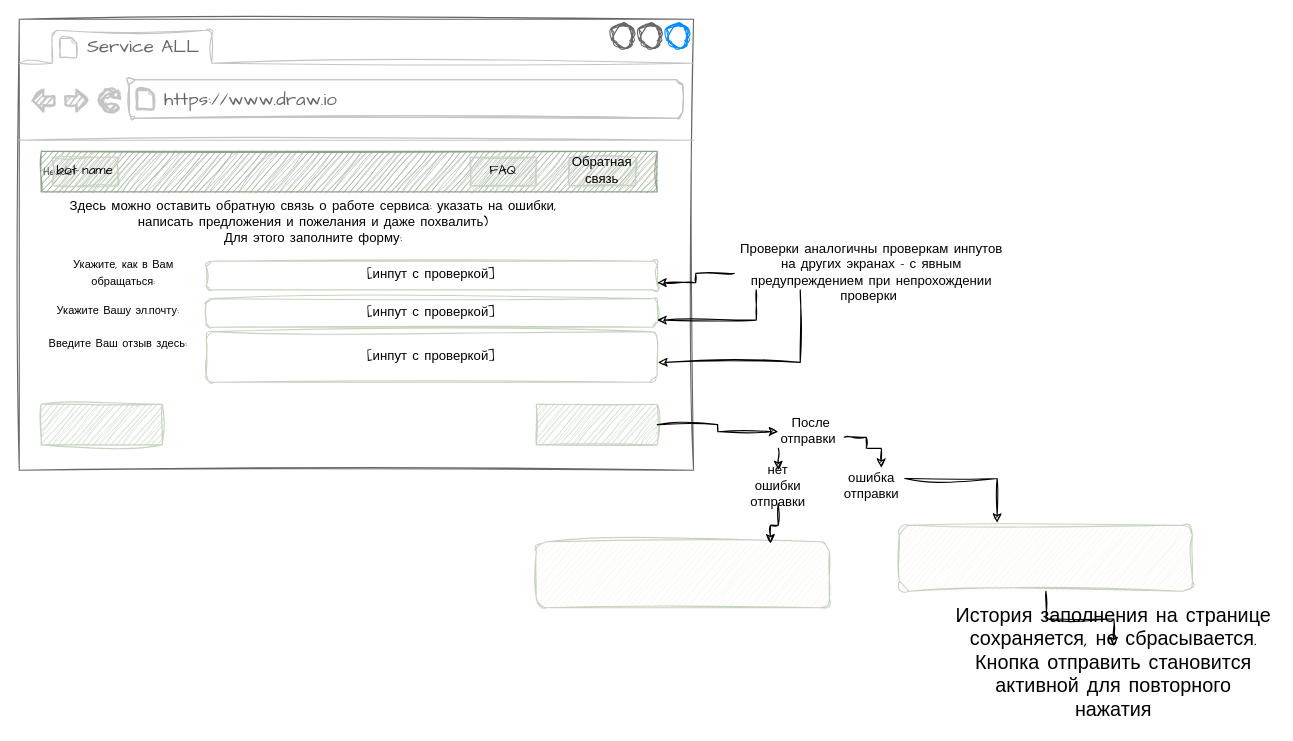
The diagram is 1293 pixels wide and 741 high, and some of its shapes have lost their labels. The shapes that lost their labels are listed below. From the top down, each one's centre as x and y in pixels, then its label:
the point at 101,424: Вернуться на предыдущий экран
the point at 596,424: Отправить
the point at 682,574: Ваш отзыв направлен и будет рассмотрен.
the point at 1045,557: Ошибка отправки. Попробуйте повторить ввод через пару минут
